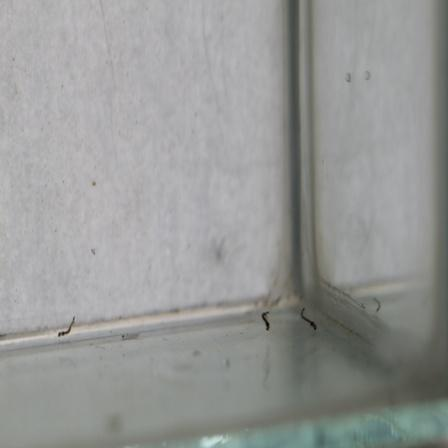Jentik-Nyamuk: (296, 303, 322, 333), (53, 314, 79, 340), (258, 307, 277, 336)
